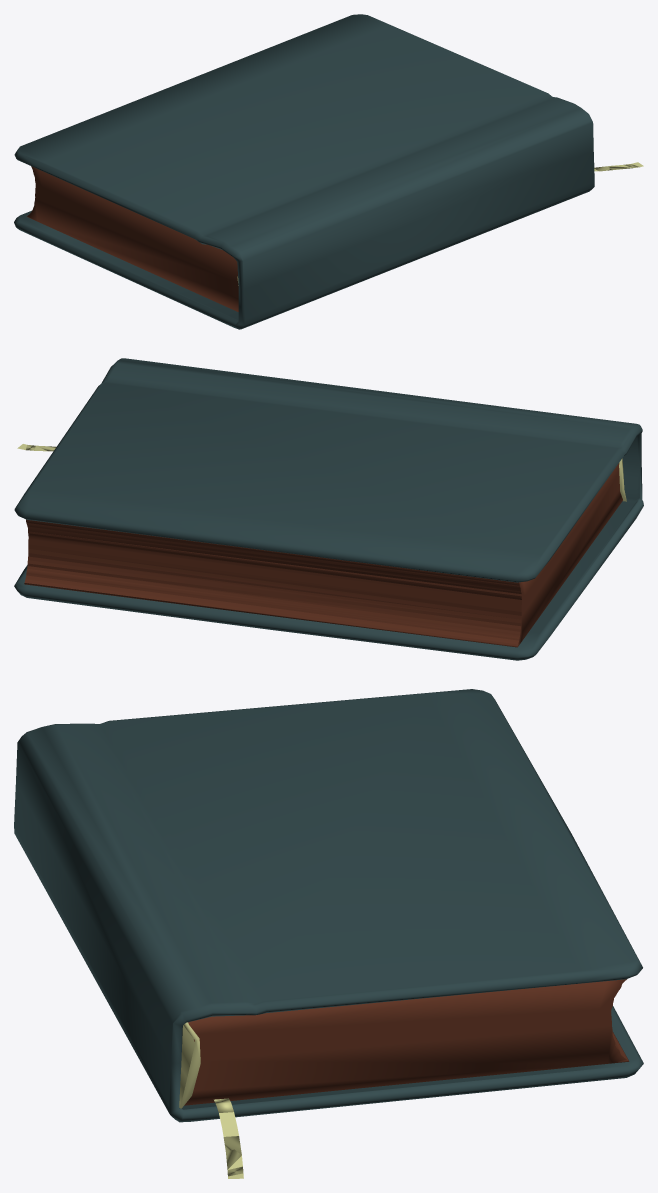
File: BOOK.fbx
The picture shows the model from 3 angles, top to bottom: view 1: azimuth 30°, elevation 25°; view 2: azimuth 150°, elevation 25°; view 3: azimuth 270°, elevation 25°; orthographic projection. The views are drawn at different scales.
Parts seen in each view (by area): view 1: office desk 2018 office desk 2018 [938282]_[656953].004; view 2: office desk 2018 office desk 2018 [938282]_[656953].004; view 3: office desk 2018 office desk 2018 [938282]_[656953].004.
Part boxes in pixels (x1,y1,x2,y2): office desk 2018 office desk 2018 [938282]_[656953].004: (14,14,643,329); office desk 2018 office desk 2018 [938282]_[656953].004: (14,358,643,660); office desk 2018 office desk 2018 [938282]_[656953].004: (14,689,643,1178).
Bounding box in the file's own units: 30.54 × 4.61 × 21.62.
